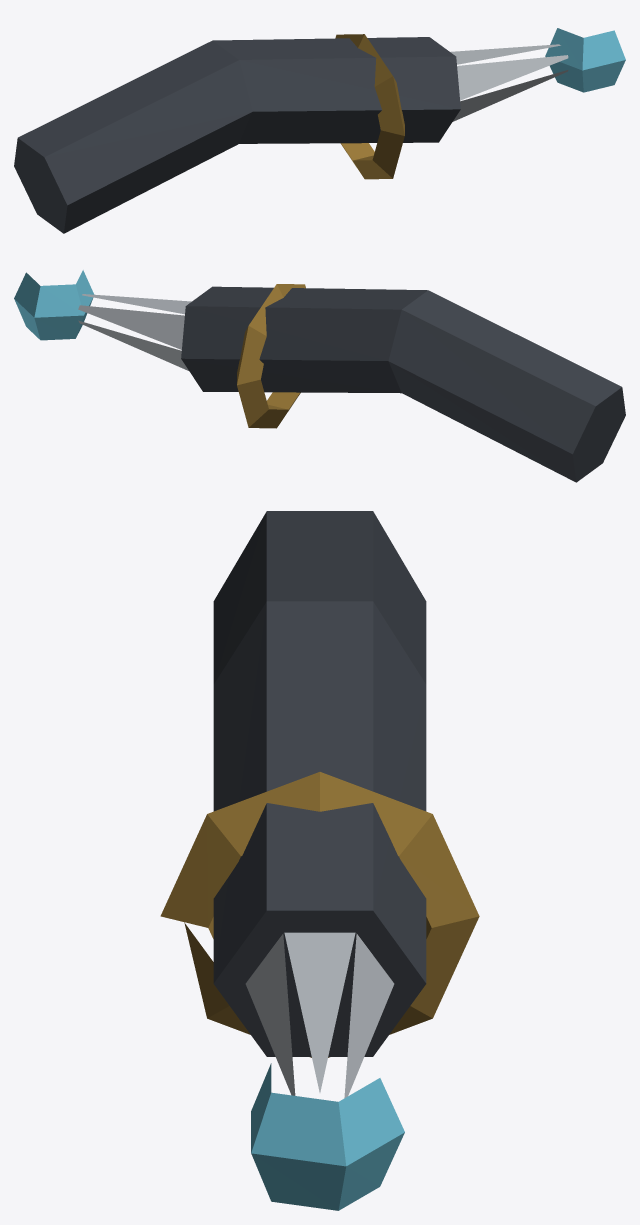
Rendered from droid-shock-arm.lod.glb.
3 views of the same model, one above another, from view 1: azimuth 30°, elevation 25°; view 2: azimuth 150°, elevation 25°; view 3: azimuth 270°, elevation 25° (orthographic). The views are drawn at different scales.
Visible parts, largest first — view 1: m; view 2: m; view 3: m.
Part boxes in pixels (<box>): m: <box>14,28,625,233</box>; m: <box>14,270,625,482</box>; m: <box>160,511,479,1210</box>.
Size of the model in its own units: 0.1 by 0.0264 by 0.0235.
